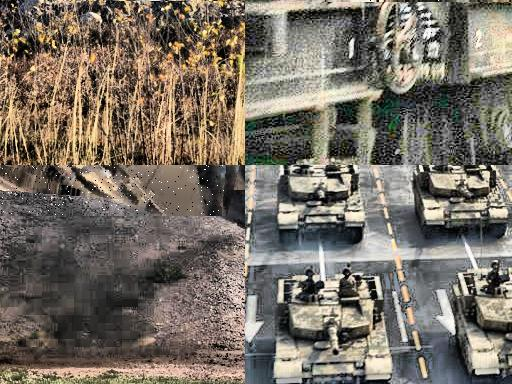tanks: (274, 271, 393, 384), (8, 166, 228, 216), (413, 166, 510, 240), (454, 263, 512, 384), (277, 166, 367, 243)
